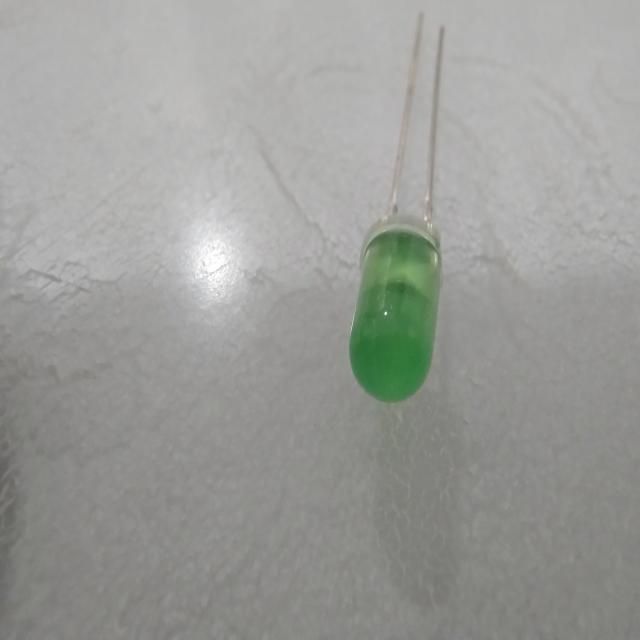green_led: (340, 210, 462, 420)
